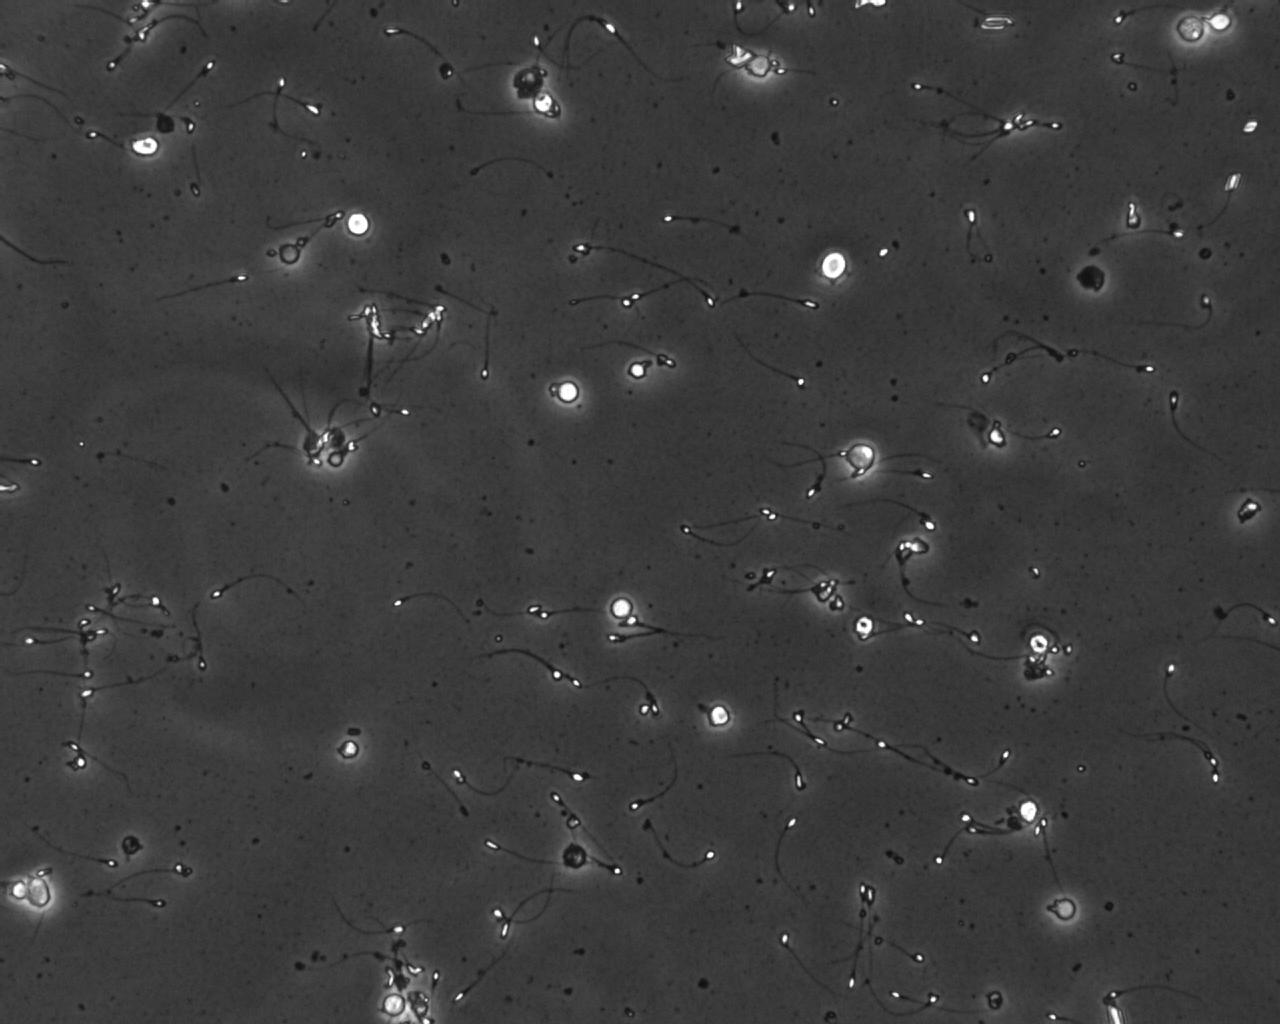cell: (979, 408, 1031, 458), (506, 61, 549, 104), (840, 436, 881, 476), (814, 245, 853, 286), (1170, 9, 1210, 48), (23, 872, 55, 911), (1072, 261, 1109, 294), (559, 840, 591, 872), (342, 207, 373, 240), (743, 50, 775, 82), (552, 376, 583, 408), (378, 988, 409, 1020), (127, 133, 162, 160), (1024, 629, 1053, 658), (1051, 894, 1080, 924), (1233, 496, 1263, 525), (1015, 795, 1042, 827), (607, 594, 636, 622), (850, 611, 878, 641), (705, 701, 734, 730), (1204, 8, 1235, 34), (528, 90, 557, 117), (275, 240, 304, 267), (334, 736, 363, 763), (118, 830, 144, 859), (624, 357, 650, 383), (7, 877, 32, 904), (323, 447, 348, 471)
